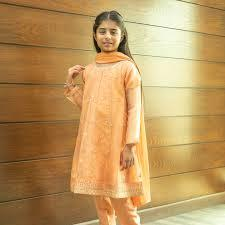Human: (72, 8, 150, 225)
